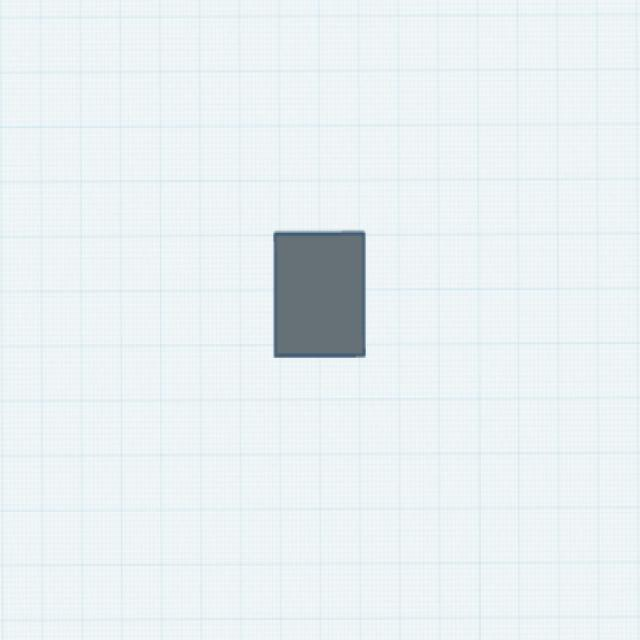cube: (268, 224, 370, 364)
